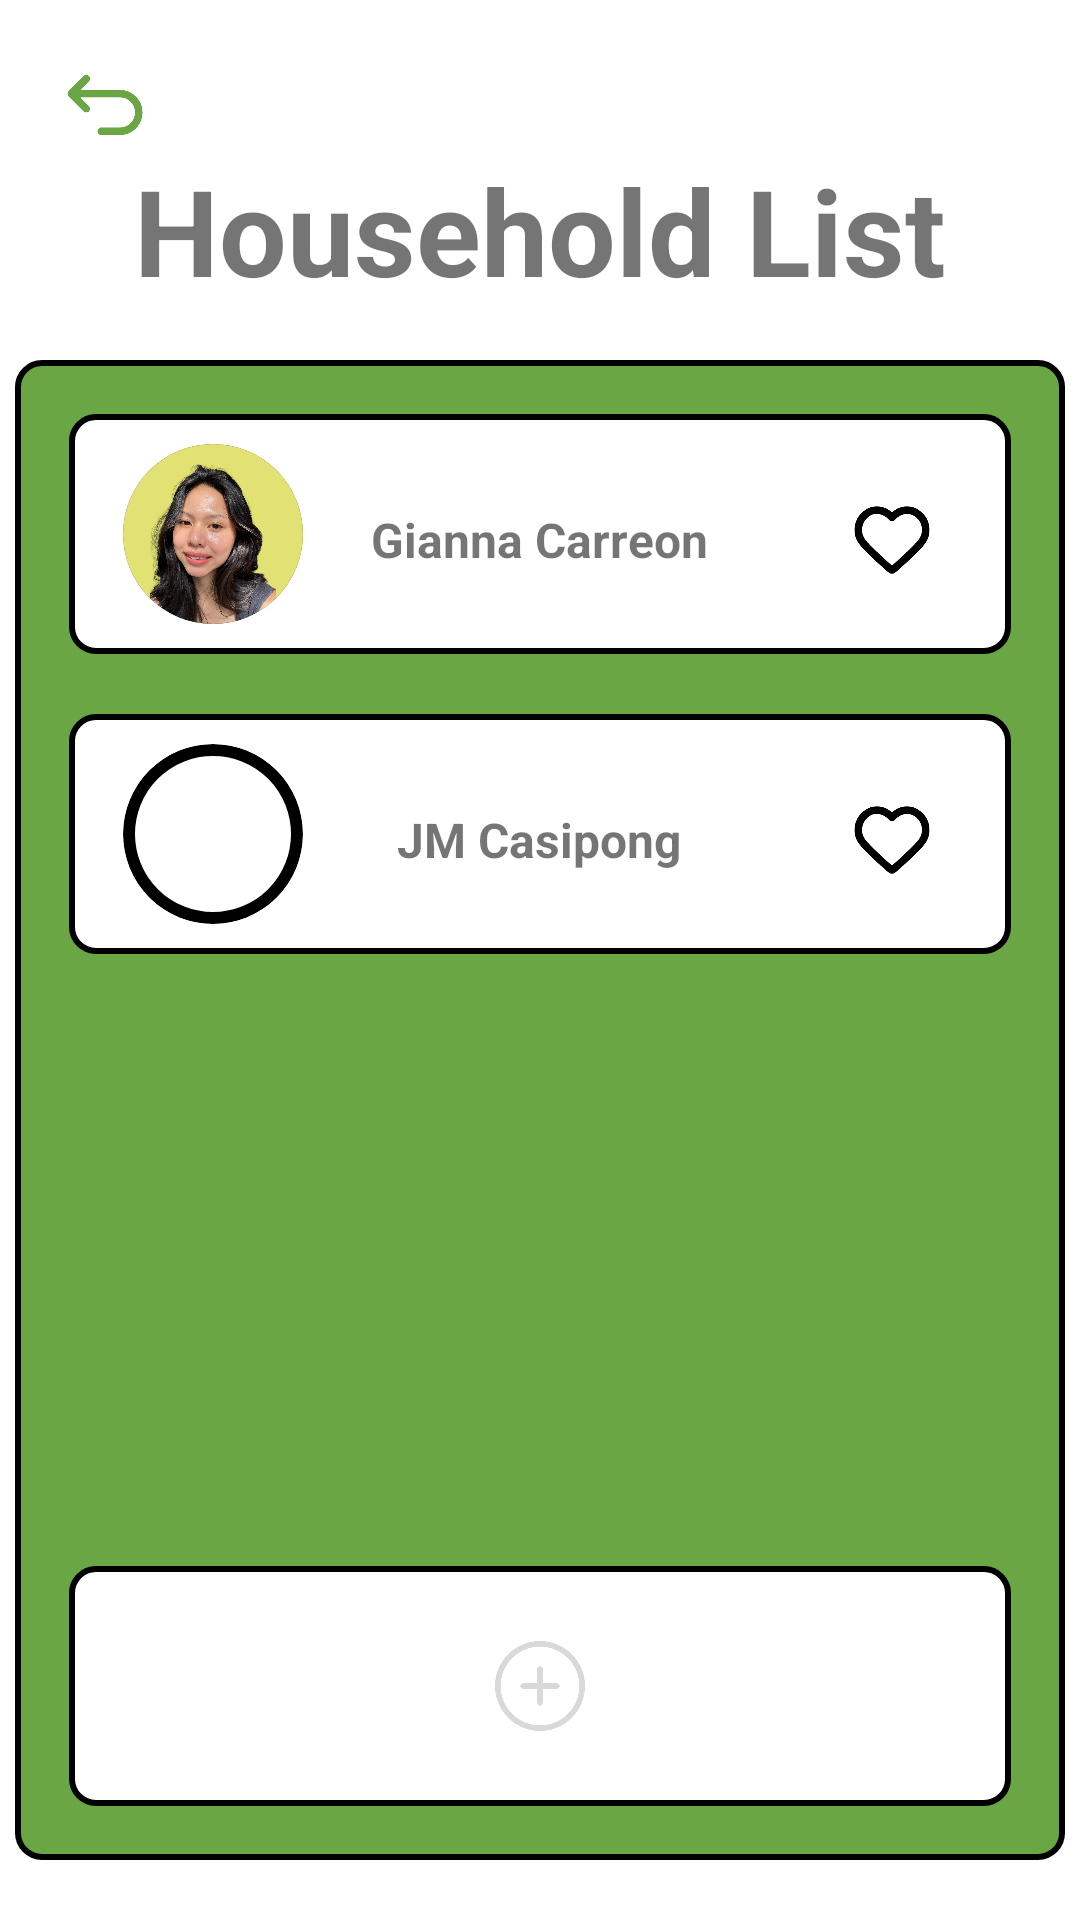

Named icons in this screenshot (1080x1920) and their bounding boxes, [left=x1, top=y1, right=x2, bottom=y2]:
back: [left=67, top=75, right=143, bottom=135]
category plus: [left=495, top=1641, right=585, bottom=1731]
heart hollow: [left=854, top=506, right=930, bottom=574], [left=854, top=806, right=930, bottom=874]
